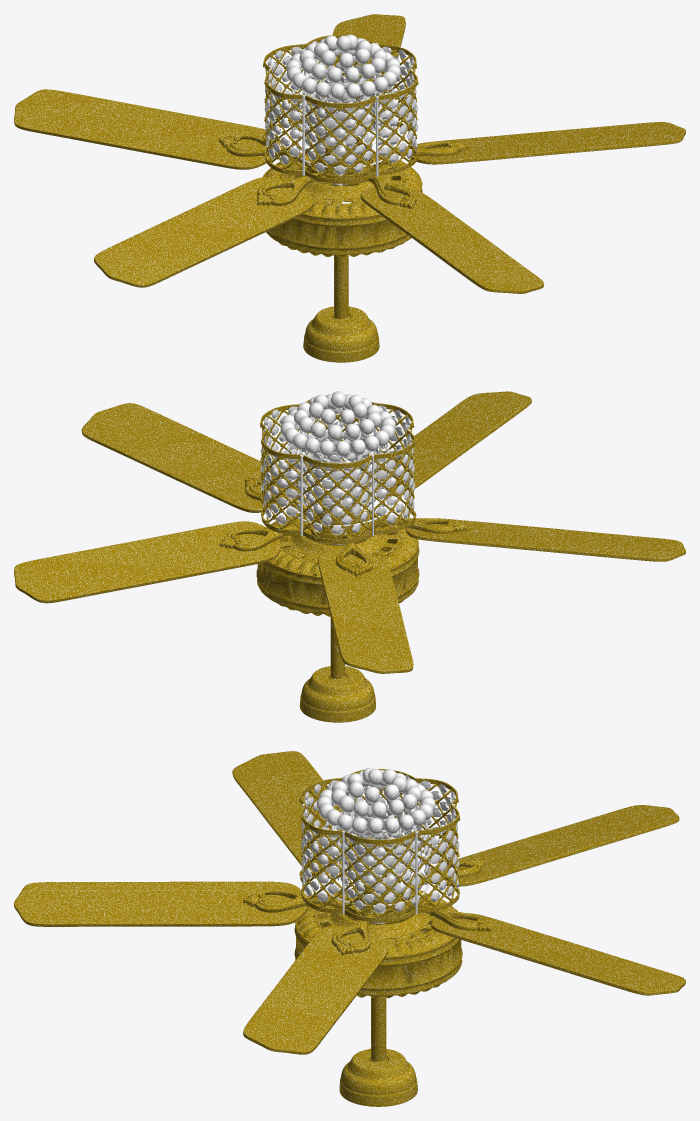
File: Celling_Lights_V.fbx
3 renders of one model, top to bottom at view 1: azimuth 30°, elevation 25°; view 2: azimuth 150°, elevation 25°; view 3: azimuth 270°, elevation 25°, orthographic. The views are drawn at different scales.
Visible parts, largest first — view 1: Material2, Material2.001, Material3.001, Material3.002, Material3, Material3.003; view 2: Material2, Material2.001, Material3.001, Material3.002, Material3, Material3.003; view 3: Material2, Material2.001, Material3.001, Material3.002, Material3, Material3.003.
Boxes of the visible parts, left/top/right/bottom form: Material2: left=14, top=14, right=544, bottom=362; Material2.001: left=219, top=42, right=685, bottom=182; Material3.001: left=14, top=15, right=685, bottom=293; Material3.002: left=249, top=41, right=468, bottom=183; Material3: left=264, top=34, right=494, bottom=362; Material3.003: left=95, top=35, right=417, bottom=287; Material2: left=14, top=391, right=685, bottom=722; Material2.001: left=81, top=403, right=416, bottom=576; Material3.001: left=14, top=391, right=530, bottom=673; Material3.002: left=245, top=402, right=415, bottom=565; Material3: left=260, top=391, right=427, bottom=722; Material3.003: left=261, top=401, right=684, bottom=561; Material2: left=14, top=751, right=685, bottom=1106; Material2.001: left=243, top=783, right=490, bottom=1054; Material3.001: left=15, top=805, right=684, bottom=1054; Material3.002: left=300, top=775, right=463, bottom=954; Material3: left=34, top=768, right=459, bottom=1106; Material3.003: left=232, top=751, right=458, bottom=912.
Size of the model in its own units: 588 by 300 by 569.
